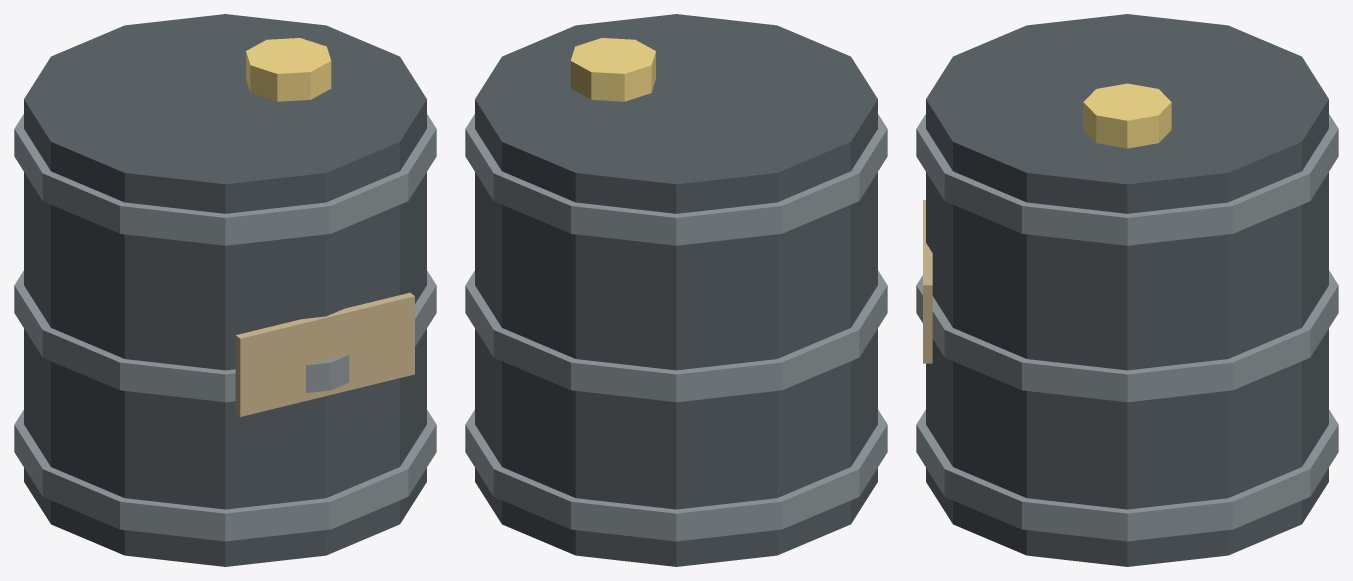
The model's file is heavy-oil.glb.
3 renders of one model, left to right at view 1: azimuth 30°, elevation 25°; view 2: azimuth 150°, elevation 25°; view 3: azimuth 270°, elevation 25°, orthographic.
Parts seen in each view (by area): view 1: heavy-oil / Graphite enamel, heavy-oil / Machined steel, heavy-oil / Sand and paper, heavy-oil / Gold markings and contacts; view 2: heavy-oil / Graphite enamel, heavy-oil / Machined steel, heavy-oil / Gold markings and contacts; view 3: heavy-oil / Graphite enamel, heavy-oil / Machined steel, heavy-oil / Gold markings and contacts, heavy-oil / Sand and paper.
Part boxes in pixels (x1,y1,x2,y2): heavy-oil / Graphite enamel: (24,14,426,566); heavy-oil / Machined steel: (14,114,436,541); heavy-oil / Sand and paper: (235,292,414,416); heavy-oil / Gold markings and contacts: (246,38,331,101); heavy-oil / Graphite enamel: (475,14,877,566); heavy-oil / Machined steel: (465,114,887,541); heavy-oil / Gold markings and contacts: (570,38,655,101); heavy-oil / Graphite enamel: (926,14,1328,566); heavy-oil / Machined steel: (916,114,1338,541); heavy-oil / Gold markings and contacts: (1083,83,1171,148); heavy-oil / Sand and paper: (923,200,932,363).
Size of the model in its own units: 0.22 by 0.236 by 0.22.
